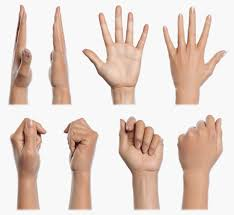hand: (159, 5, 228, 105), (84, 4, 151, 106), (108, 109, 169, 177), (4, 5, 42, 105), (47, 3, 80, 106), (180, 113, 225, 178), (58, 110, 107, 168), (5, 113, 42, 177)
